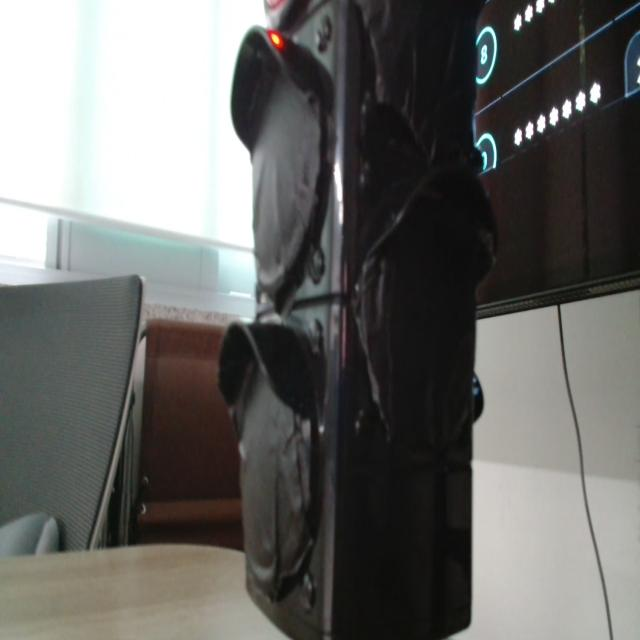red_light: (268, 31, 284, 50)
